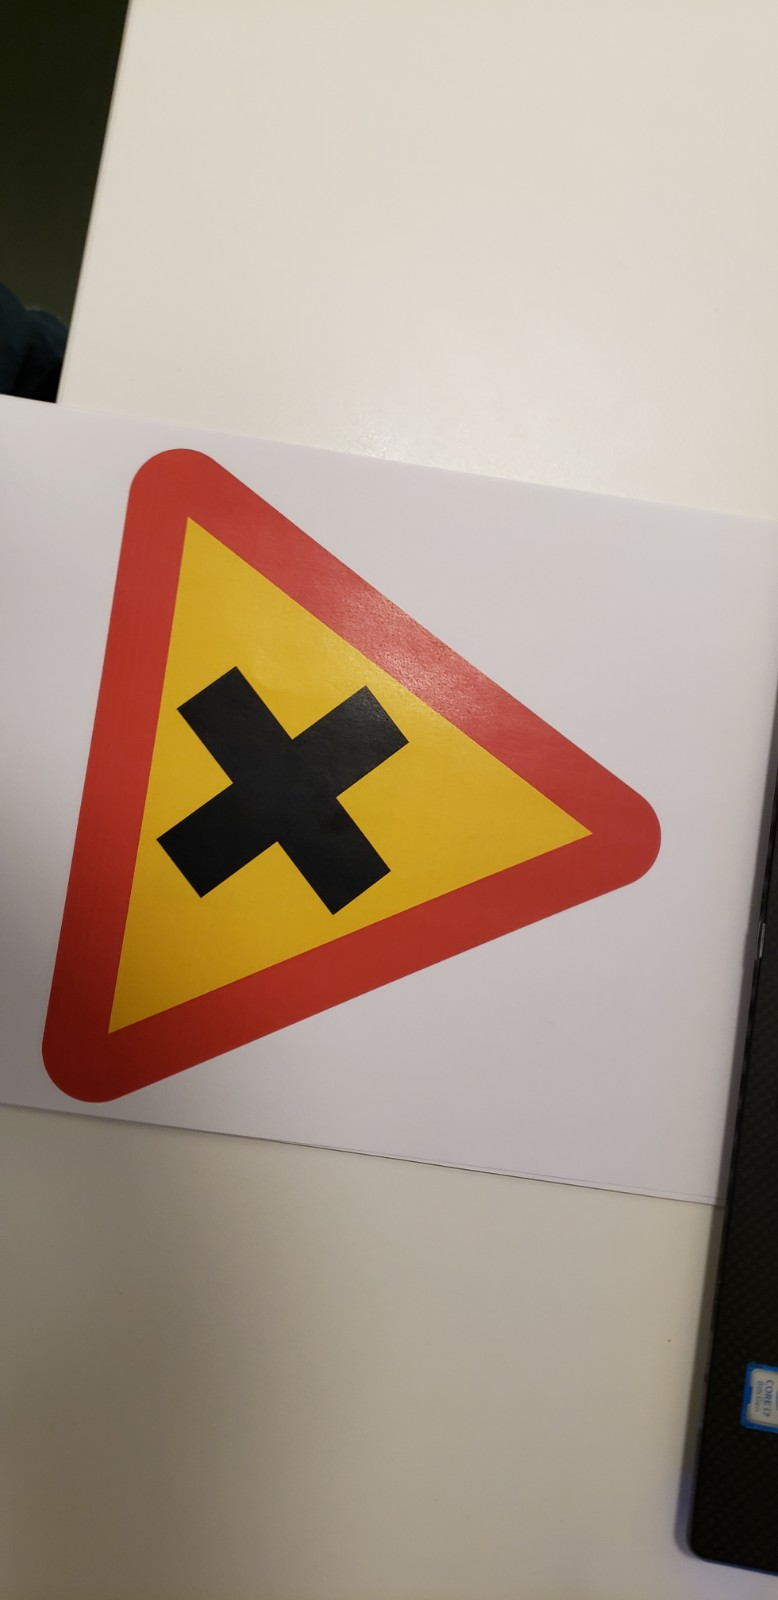junction: (46, 427, 672, 1145)
